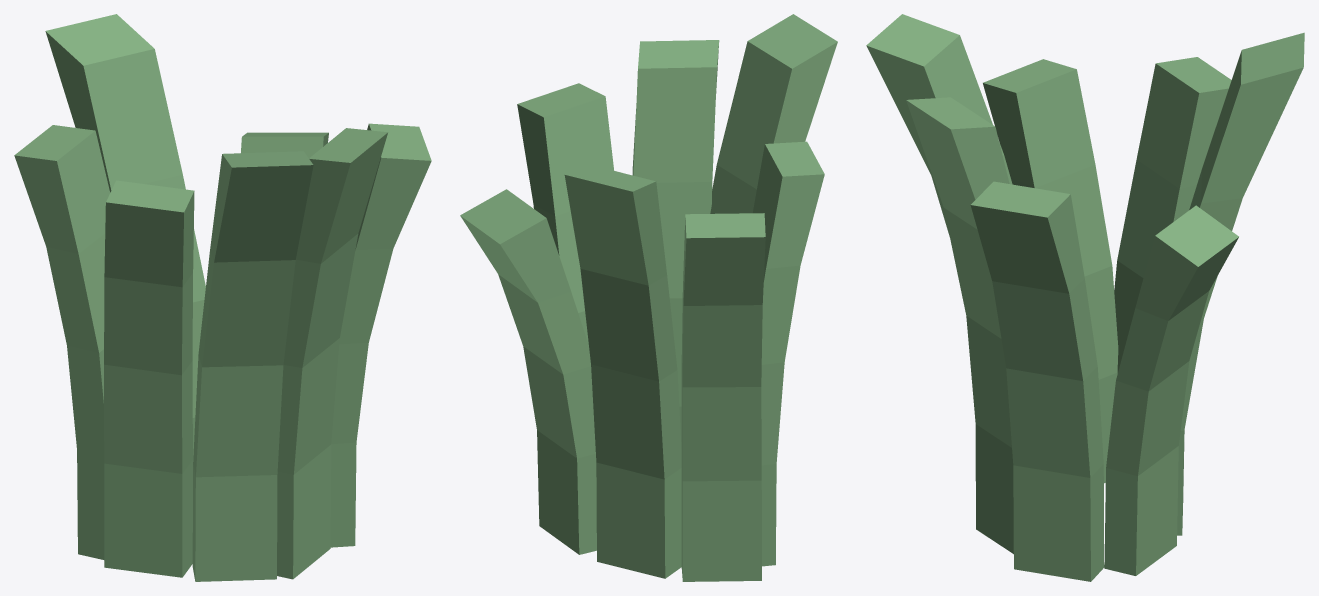
File: Grass__3.glb
3 views of the same model, side by side, from view 1: azimuth 30°, elevation 25°; view 2: azimuth 150°, elevation 25°; view 3: azimuth 270°, elevation 25° (orthographic). The views are drawn at different scales.
Visible parts, largest first — view 1: Grass #3; view 2: Grass #3; view 3: Grass #3.
Part boxes in pixels (box(x1,y1,x2,y2)): Grass #3: box(14, 14, 431, 581); Grass #3: box(460, 14, 837, 581); Grass #3: box(866, 14, 1304, 581).
Bounding box in the file's own units: 0.1557 × 0.208 × 0.1769.
